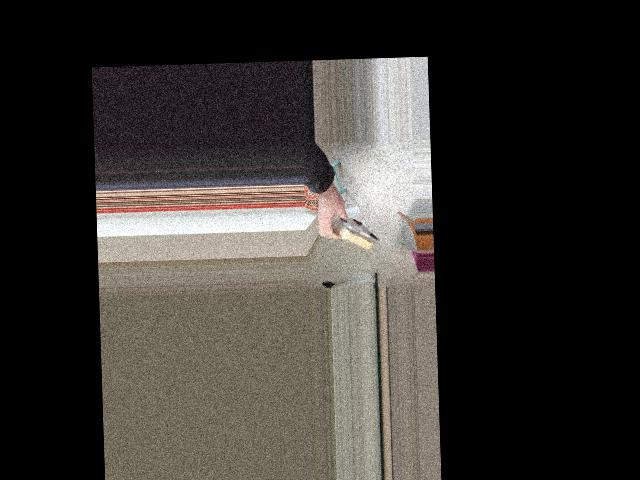cheese: (309, 202, 381, 261)
